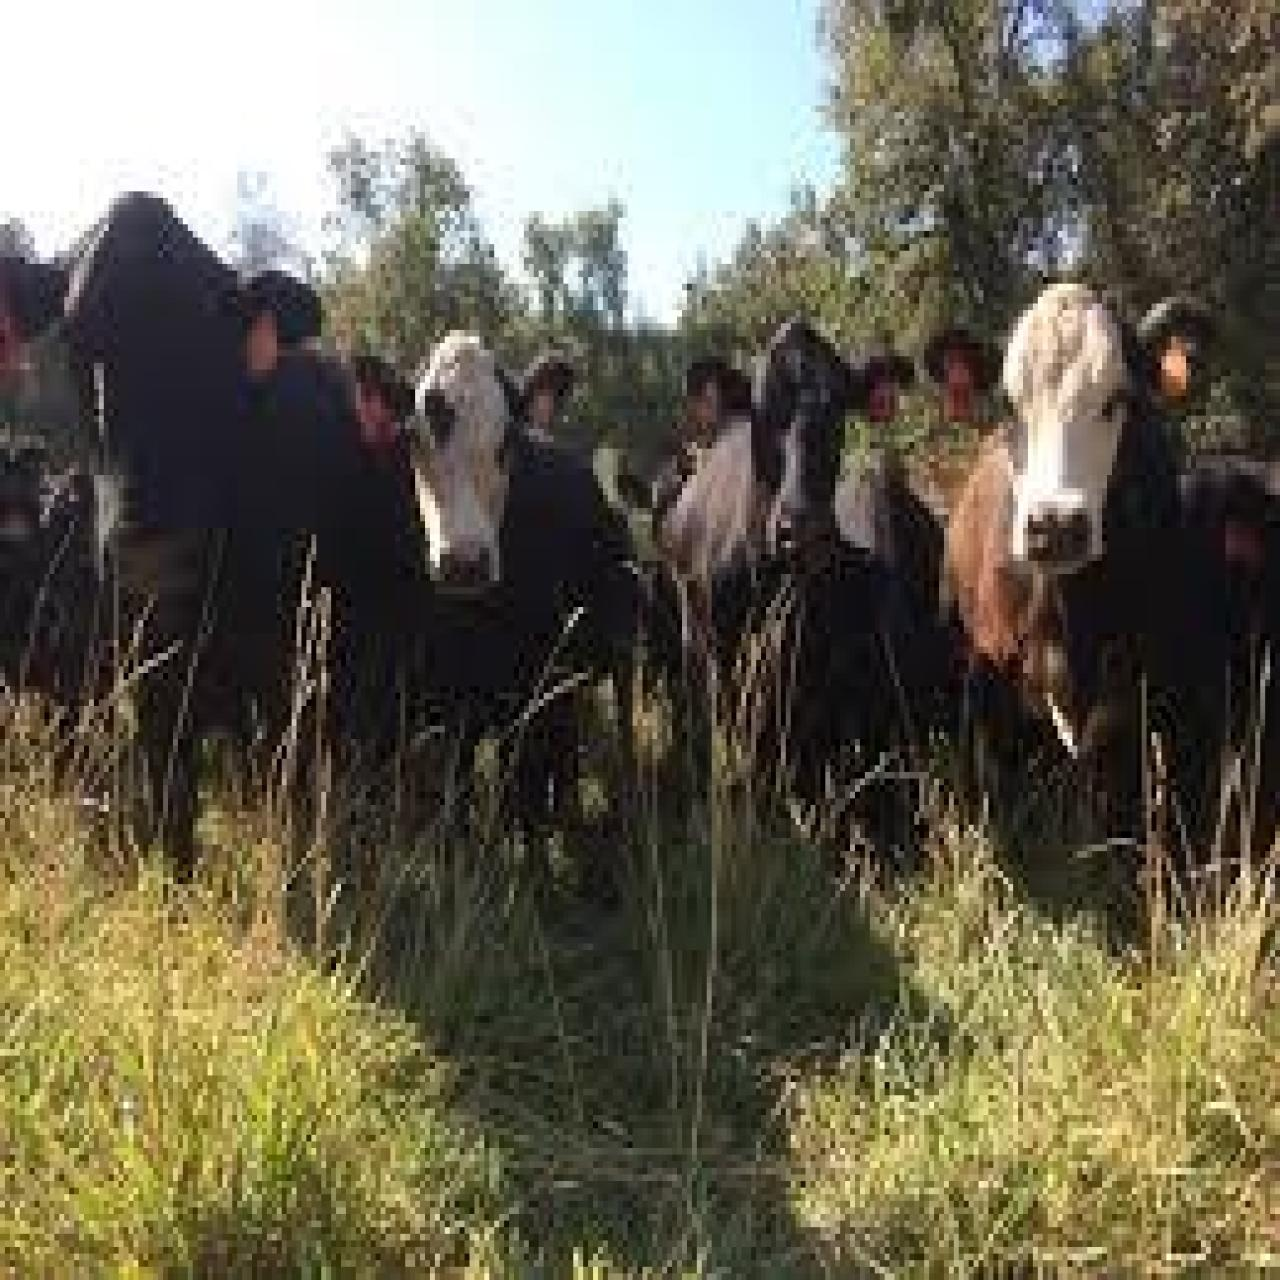cow: (0, 208, 361, 868), (922, 294, 1213, 907), (655, 313, 922, 795), (358, 337, 561, 600)
